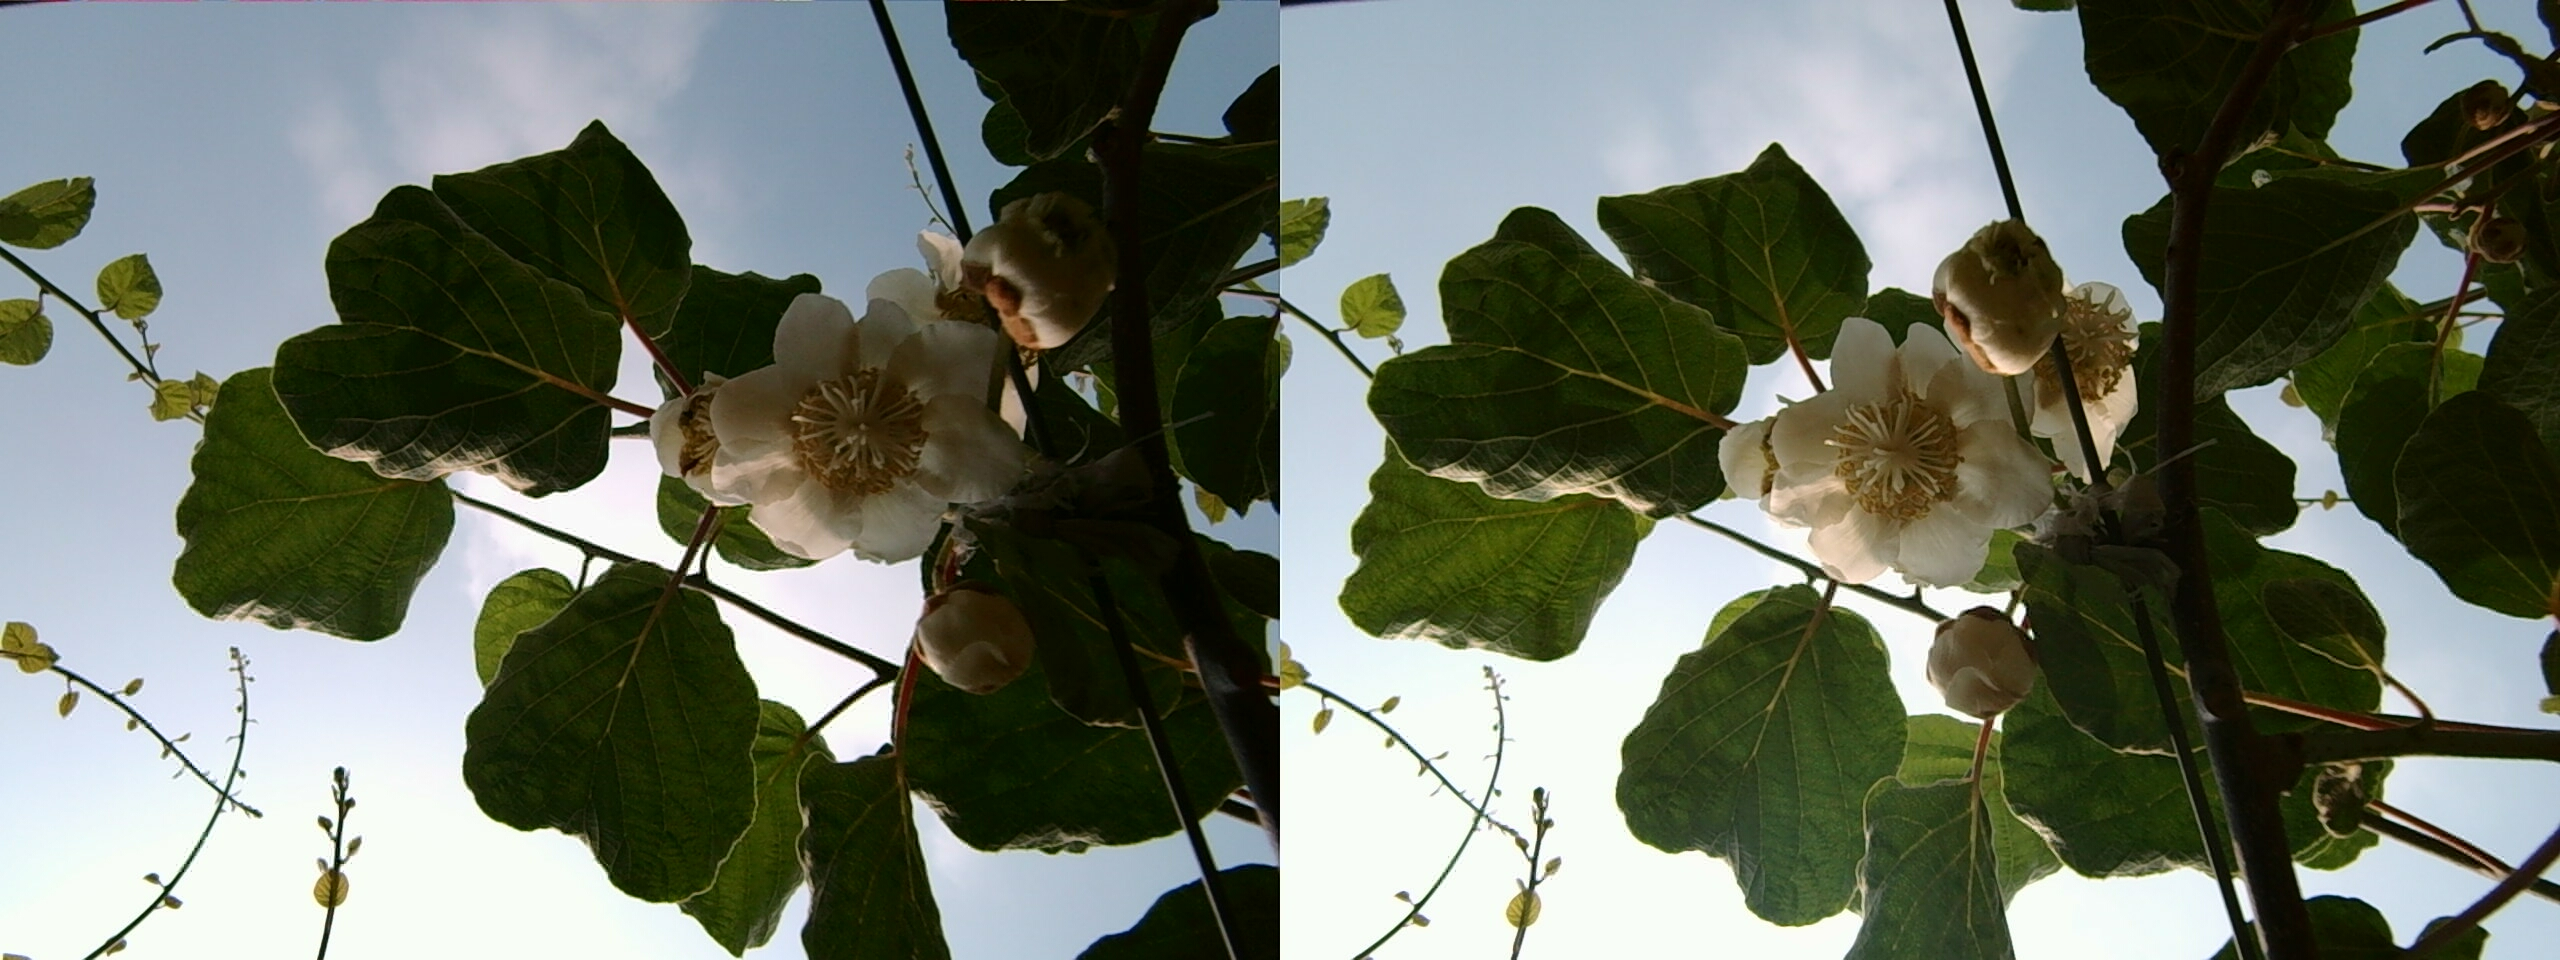flower: (1731, 312, 2047, 588), (705, 291, 1007, 557), (1931, 212, 2080, 387)
